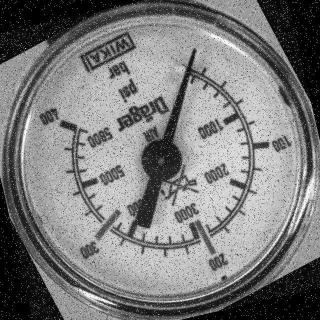gauge: (0, 0, 320, 320), (136, 134, 188, 188), (39, 98, 87, 146), (168, 42, 210, 84), (183, 41, 202, 61)
